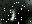person: (11, 10, 18, 22)
